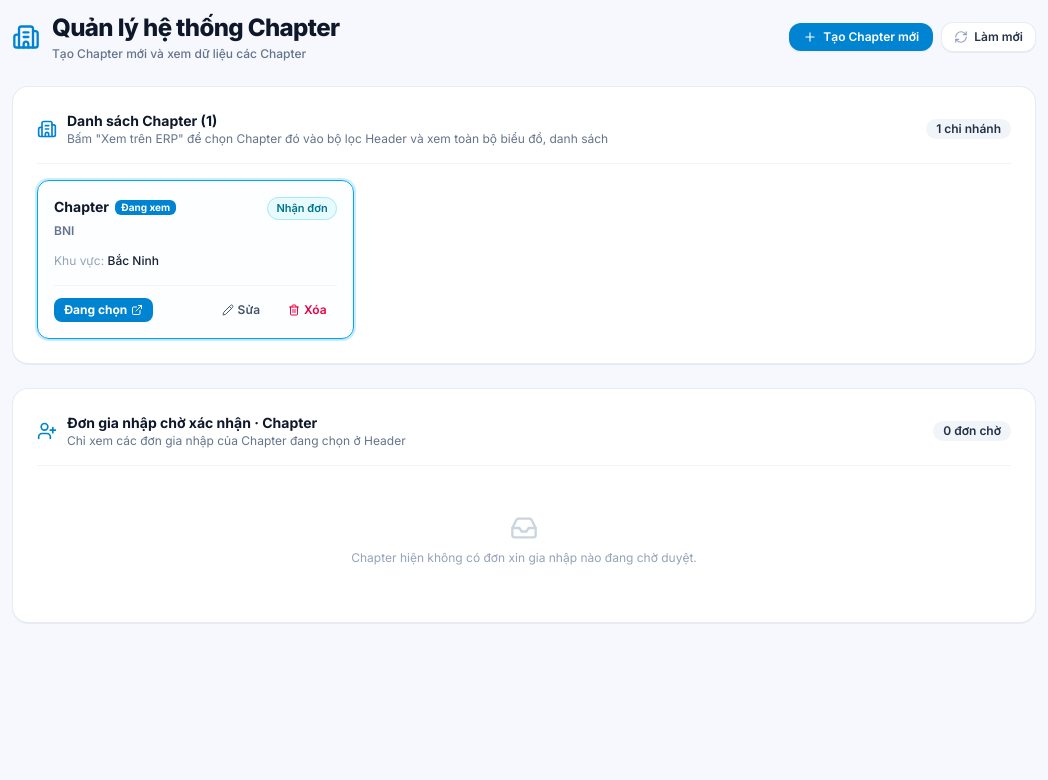
Scenario: warns and does not offer deletion when a chapter has data
The width and height of the screenshot is (1048, 780).
Step 1. Click the button with aria-label "Xóa Chapter (BNI)" → click(307, 310), box 278,298 -> 337,322
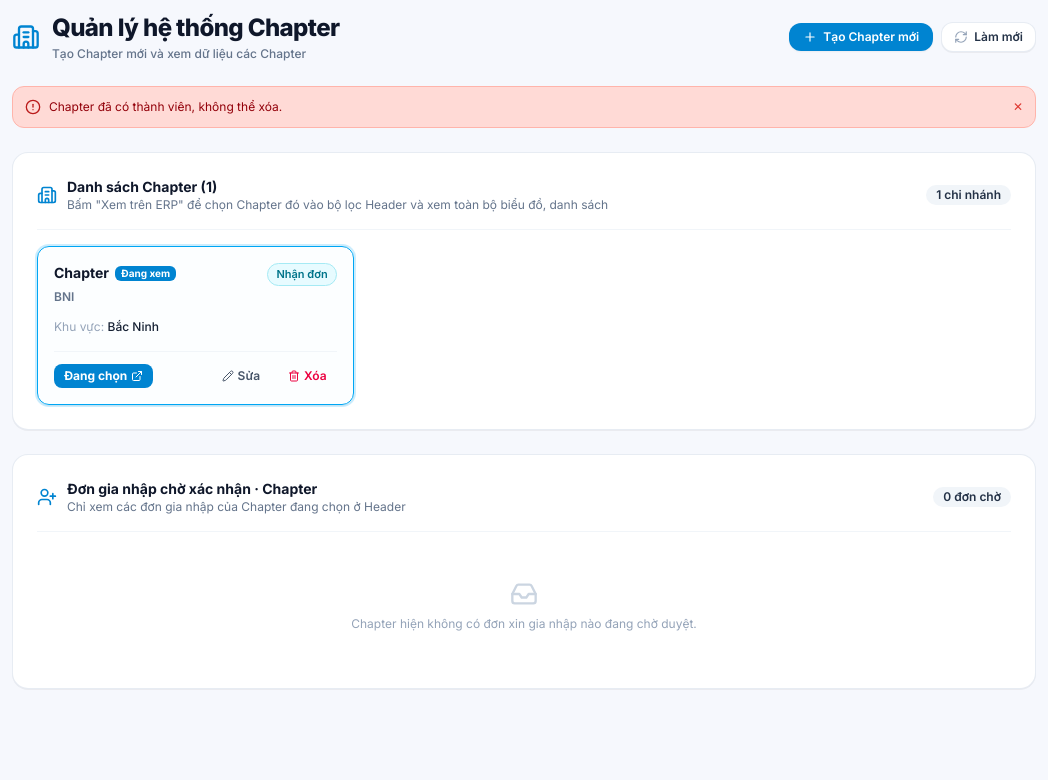
Now the message "Chapter đã có thành viên, không thể xóa. ✕" is shown, box 12,86 -> 1036,128
